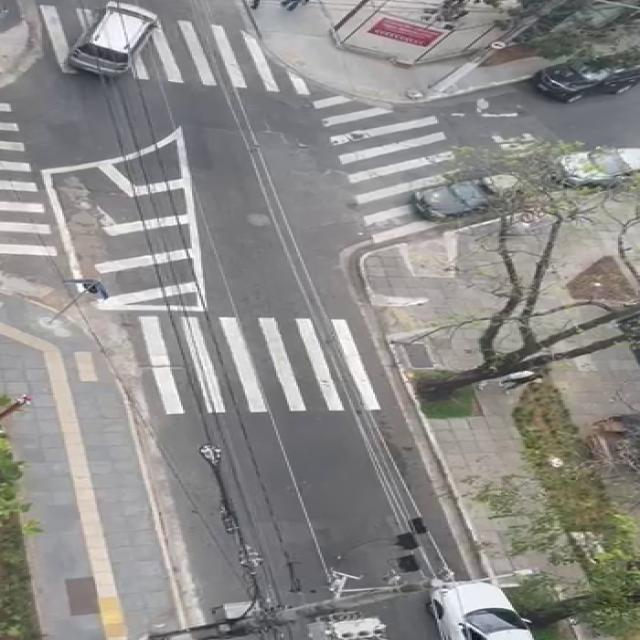car: (59, 2, 171, 75), (424, 574, 534, 640), (417, 168, 537, 223), (523, 47, 640, 97), (556, 139, 640, 192)
